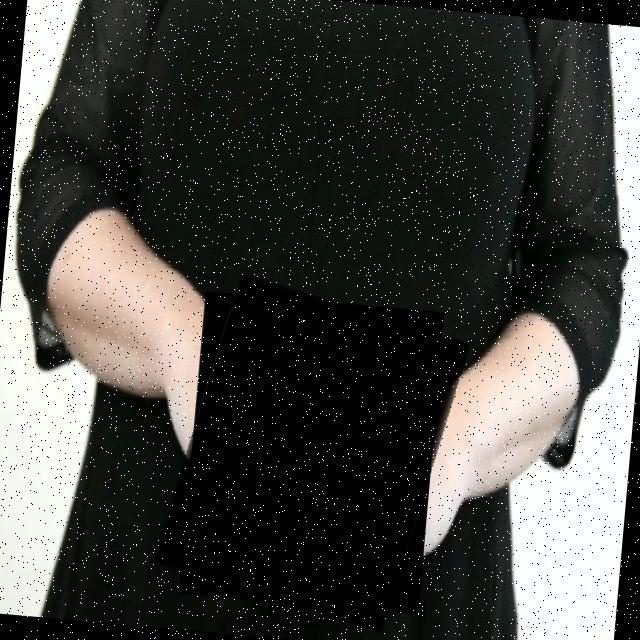F: (165, 281, 460, 628)
